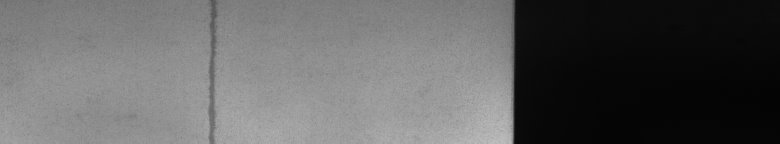hd: (204, 4, 221, 136)
